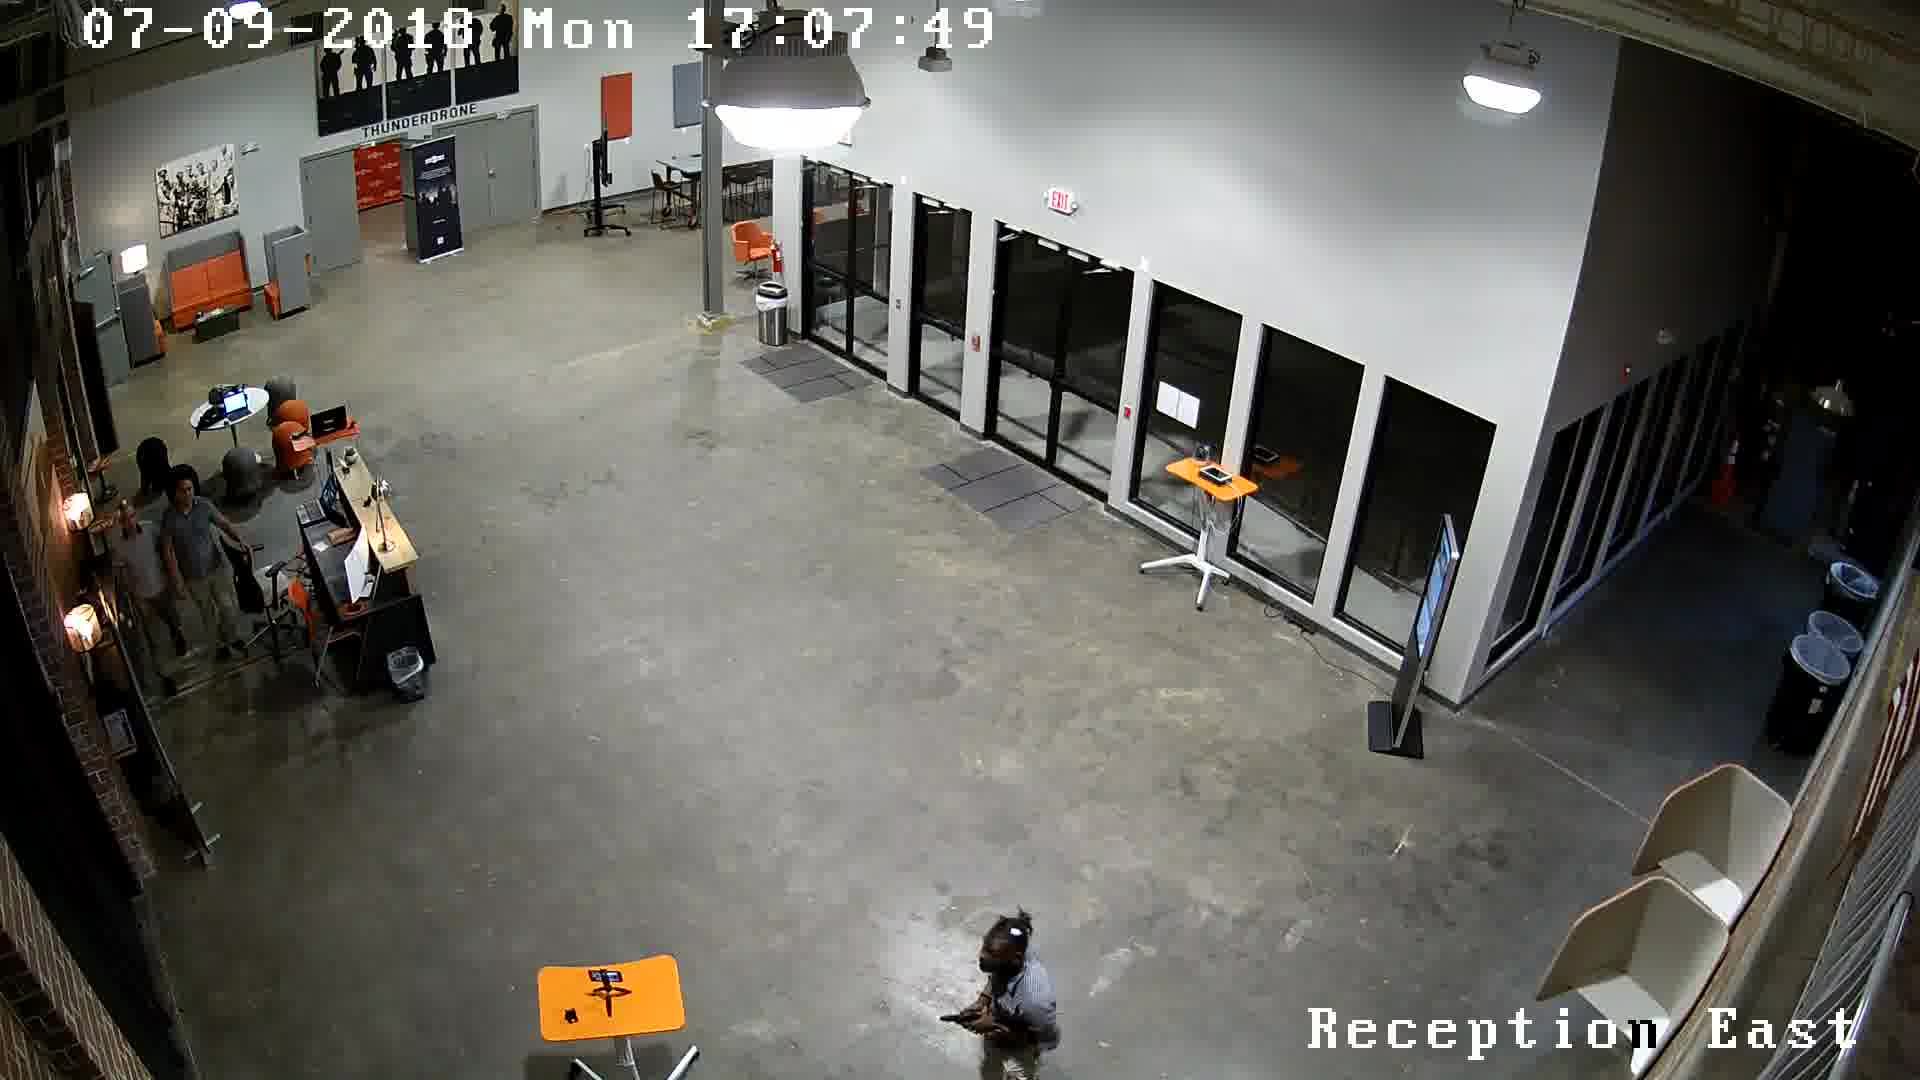pistol: (920, 988, 1007, 1044)
